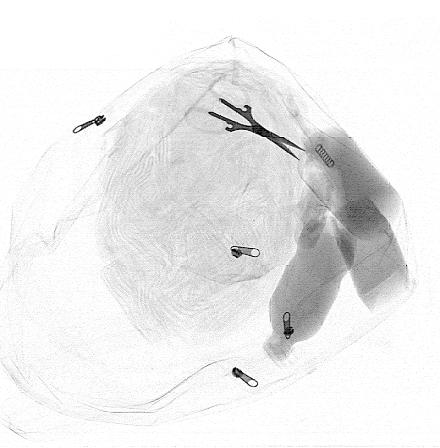Scissors: (183, 76, 309, 160)
